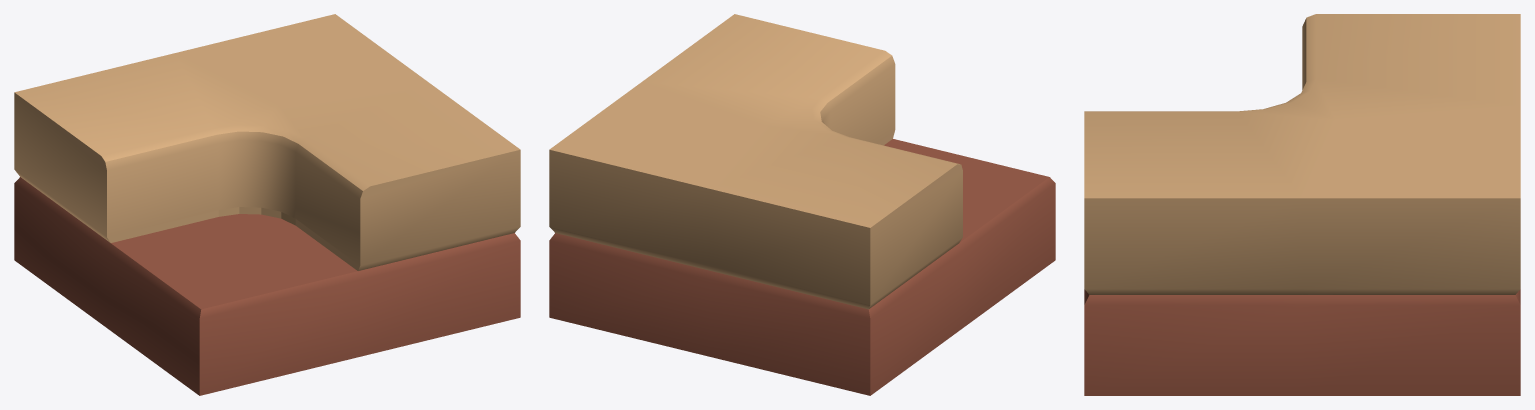
File: kaykit-square-sand-waterinnercorner-empty.glb
3 renders of one model, left to right at view 1: azimuth 30°, elevation 25°; view 2: azimuth 150°, elevation 25°; view 3: azimuth 270°, elevation 25°, orthographic. The views are drawn at different scales.
Parts seen in each view (by area): view 1: square_sand_waterInnerCorner_empty; view 2: square_sand_waterInnerCorner_empty; view 3: square_sand_waterInnerCorner_empty.
Part boxes in pixels (x1,y1,x2,y2): square_sand_waterInnerCorner_empty: (14,14,520,395); square_sand_waterInnerCorner_empty: (549,14,1055,395); square_sand_waterInnerCorner_empty: (1084,14,1520,395).
Bounding box in the file's own units: 2 × 1 × 2.
